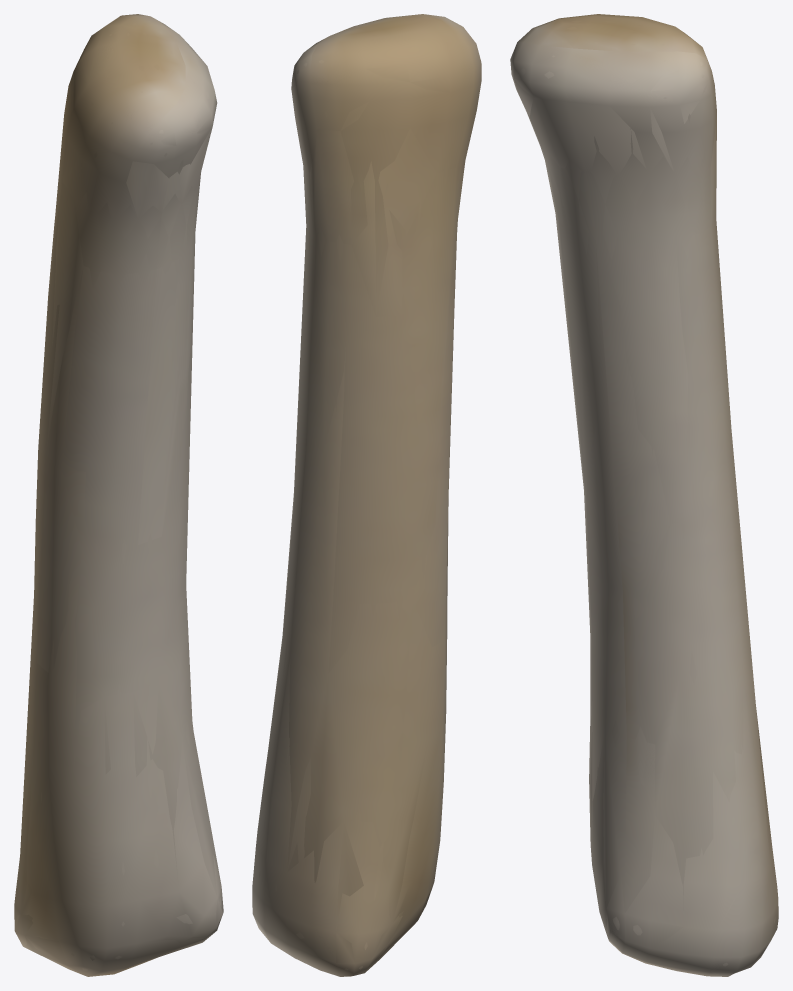
File: R metacarpi tertium.fbx
3 renders of one model, left to right at view 1: azimuth 30°, elevation 25°; view 2: azimuth 150°, elevation 25°; view 3: azimuth 270°, elevation 25°, orthographic. The views are drawn at different scales.
Visible parts, largest first — view 1: R metacarpi tertium, R metacarpi tertium low, R metacarpi tertium high; view 2: R metacarpi tertium, R metacarpi tertium low, R metacarpi tertium high; view 3: R metacarpi tertium low, R metacarpi tertium, R metacarpi tertium high.
Boxes of the visible parts, <box> form: R metacarpi tertium: <box>14,14,223,976</box>; R metacarpi tertium low: <box>15,14,222,976</box>; R metacarpi tertium high: <box>18,20,221,970</box>; R metacarpi tertium: <box>252,14,481,976</box>; R metacarpi tertium low: <box>260,14,473,975</box>; R metacarpi tertium high: <box>259,17,475,971</box>; R metacarpi tertium low: <box>511,15,771,976</box>; R metacarpi tertium: <box>510,14,778,976</box>; R metacarpi tertium high: <box>520,20,775,972</box>.
Bounding box in the file's own units: 1.18 × 6.33 × 1.65.
